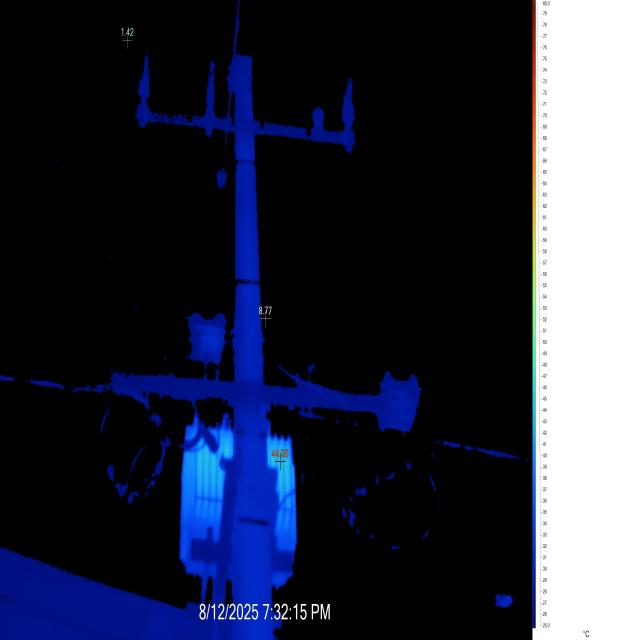Transformer: (0, 12, 530, 637)
